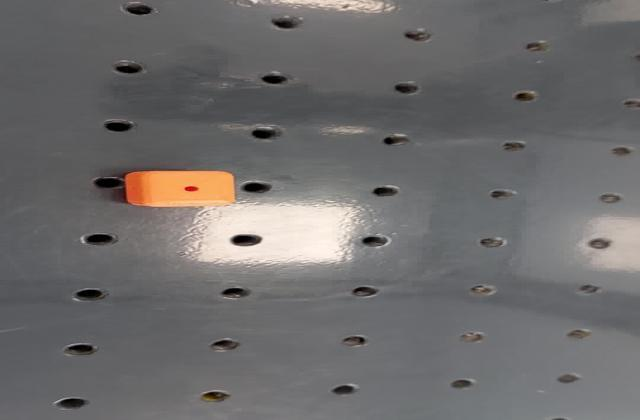cube: (119, 169, 242, 209)
